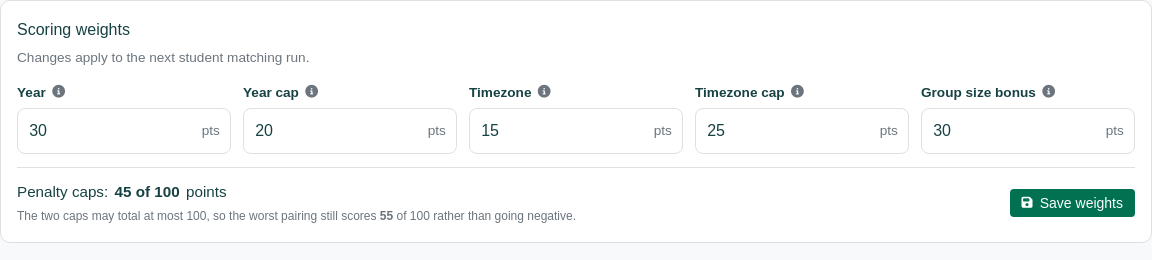
MatchingConfigPanel › the penalty ceiling › says what to change once the ceiling is exceeded
The image size is (1152, 260).
Replace the text in the number field labelled "Year cap" with "90" at (350, 131), box x1=243 y1=108 x2=457 y2=154
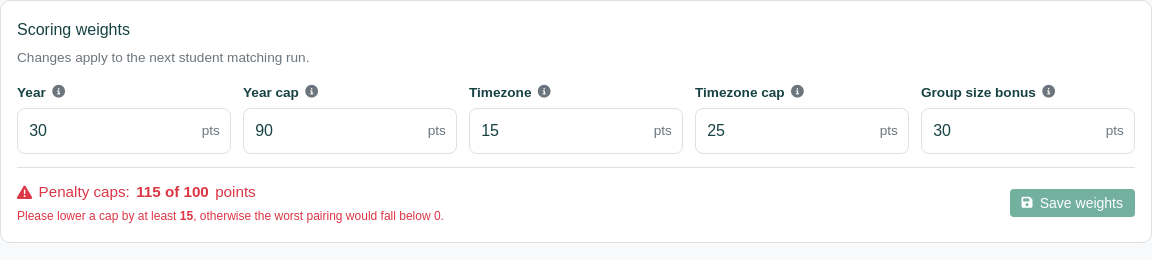
Expected: the element that starts with "Please lower a cap by at least" shows "lower a cap by at least 15", x1=17 y1=207 x2=444 y2=226
Expected: the element that starts with "Please lower a cap by at least" shows "fall below 0", x1=193 y1=209 x2=444 y2=223
Expected: the text "may total at most" is gone
